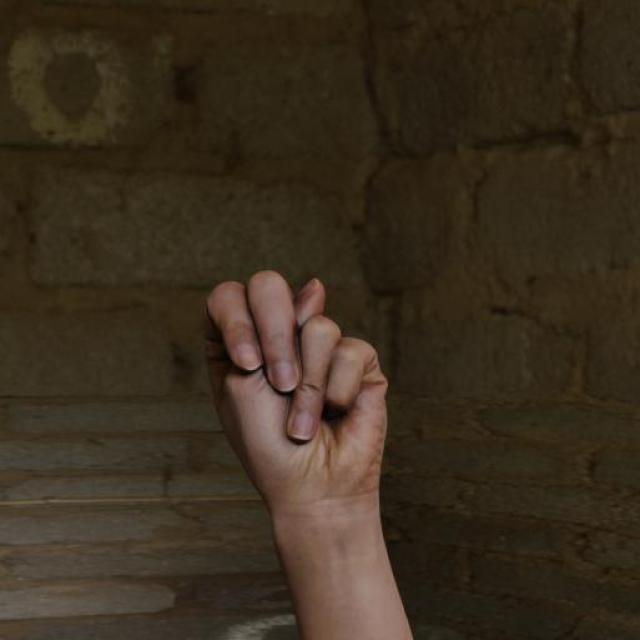N: (198, 265, 395, 520)
